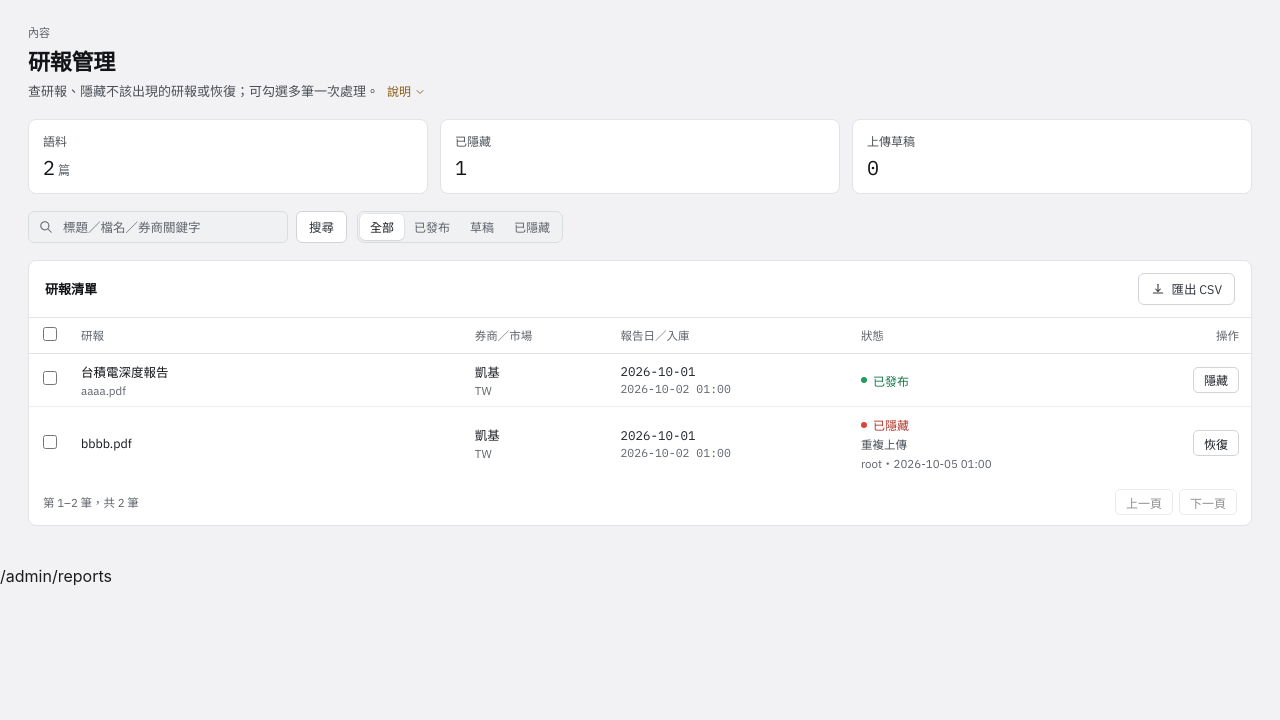
Test: 點列開詳情抽屜並寫進網址；已發布可連到閱讀頁，關閉後網址拿掉參數
Click the cell "凱基 TW" in the row of "aaaa.pdf" at (536, 380), box 463,353 -> 608,406
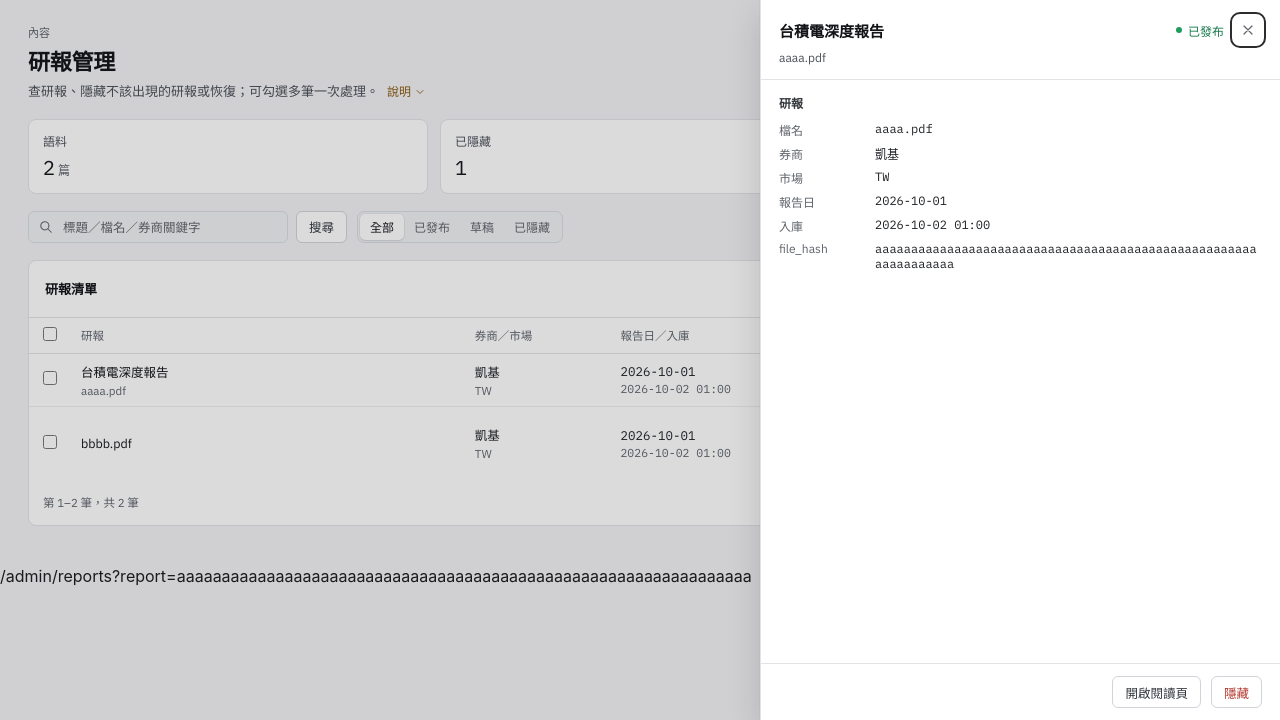
Expected: the text "已發布" is shown, 1176,22 -> 1224,38
Expected: the text "aaaa.pdf" next to "檔名" is shown, 875,121 -> 933,136
Click the button named "關閉" at (1248, 30), box 1234,16 -> 1262,44
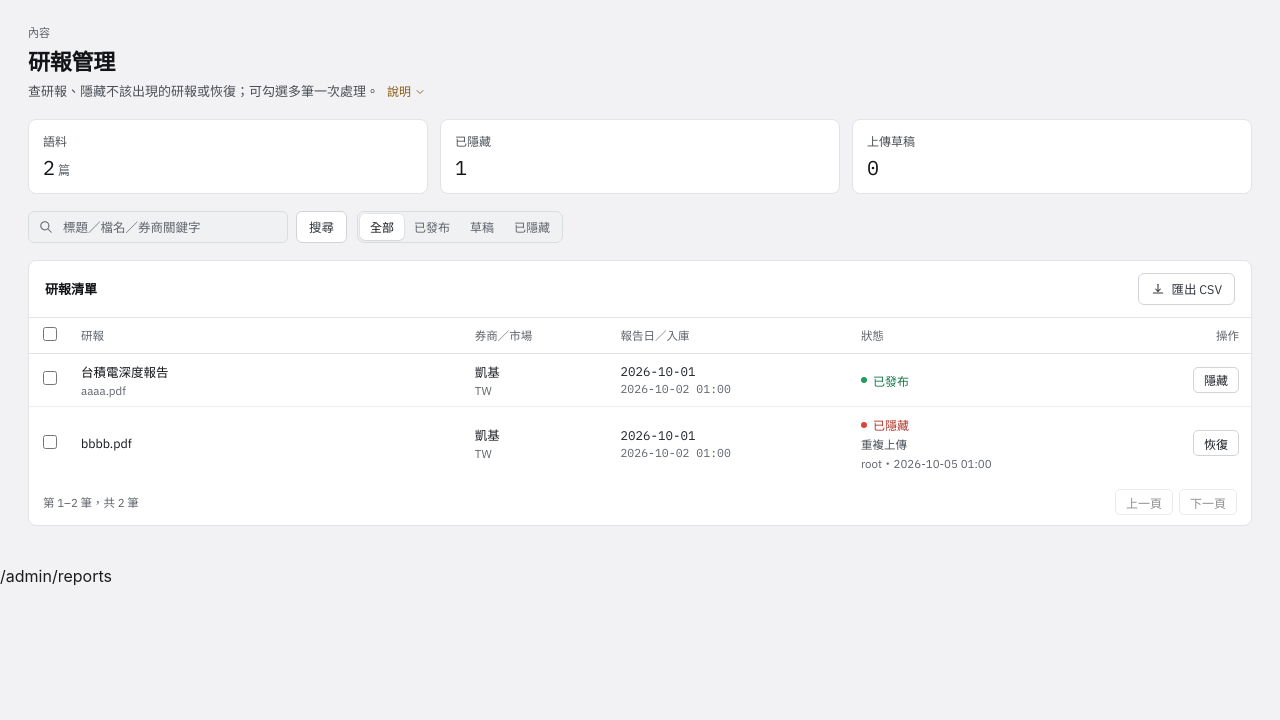
Expected: the dialog is gone
Expected: the text with test id "where" reads "/admin/reports", 0,566 -> 112,586
